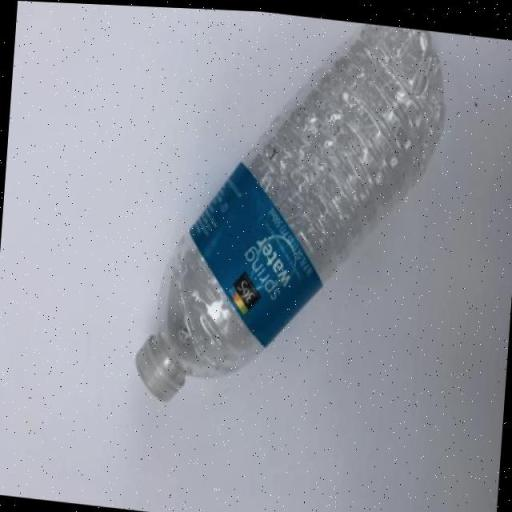plastic: (129, 4, 451, 432)
